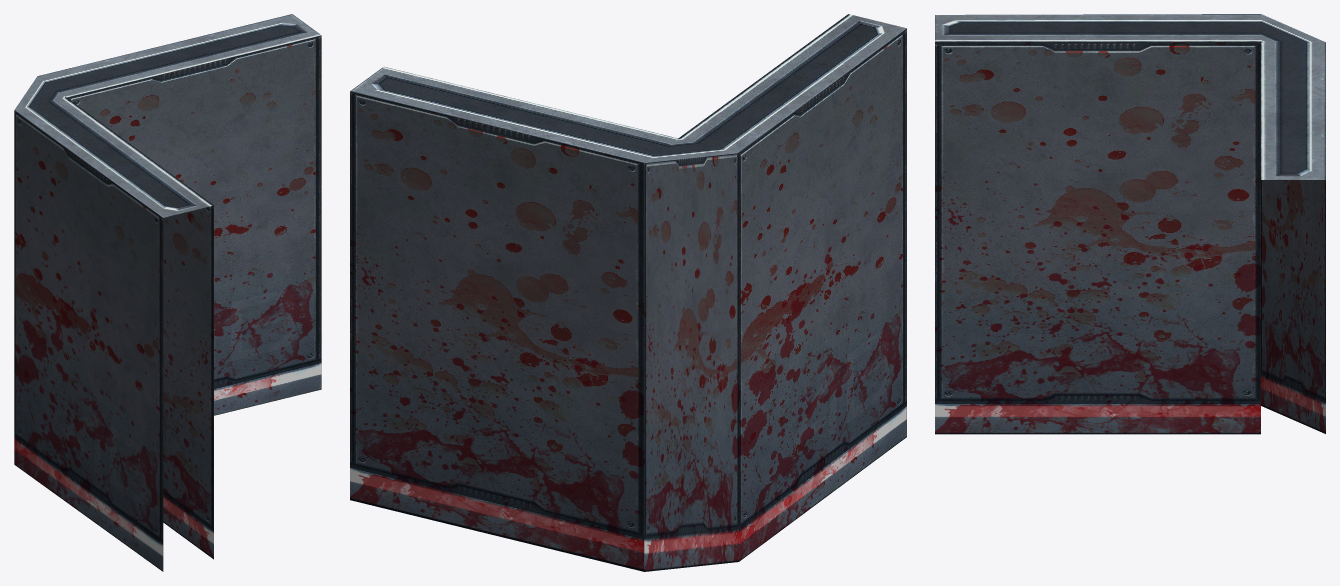
The model's file is wall_angle2.fbx.
3 views of the same model, side by side, from view 1: azimuth 30°, elevation 25°; view 2: azimuth 150°, elevation 25°; view 3: azimuth 270°, elevation 25° (orthographic). The views are drawn at different scales.
Parts seen in each view (by area): view 1: pCube5; view 2: pCube5; view 3: pCube5.
Part boxes in pixels (x1,y1,x2,y2): pCube5: (14, 14, 321, 571); pCube5: (350, 14, 906, 571); pCube5: (935, 14, 1325, 434).
Size of the model in its own units: 182 by 200 by 181.
